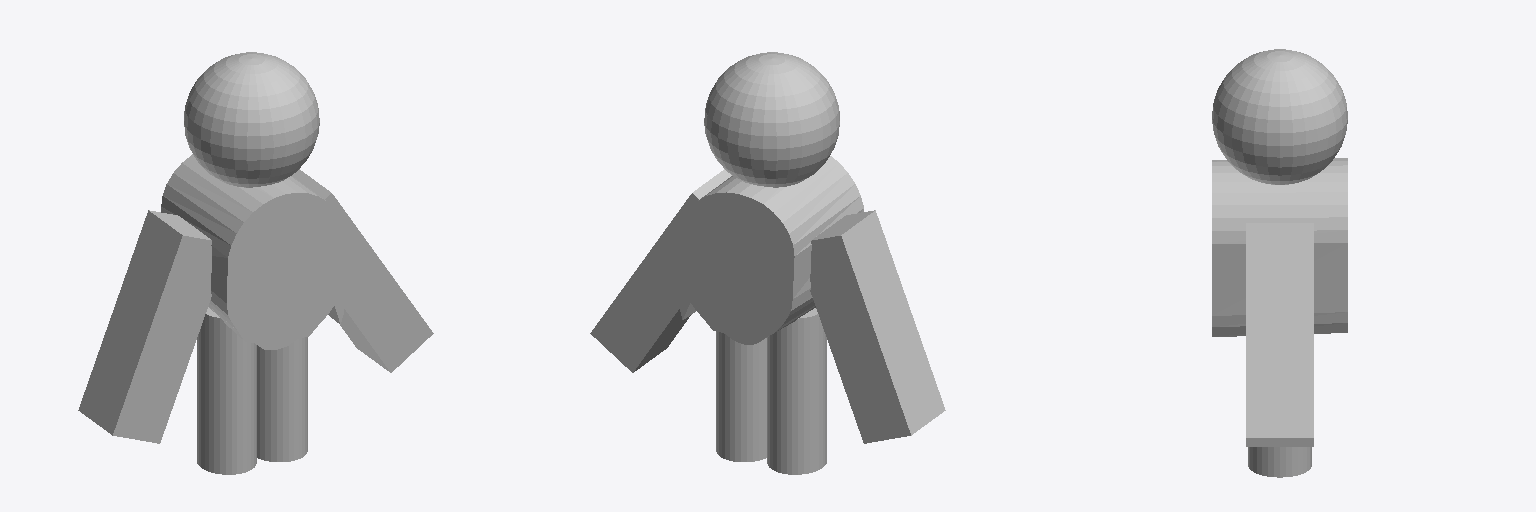
File: Figurine16.obj
3 renders of one model, left to right at view 1: azimuth 30°, elevation 25°; view 2: azimuth 150°, elevation 25°; view 3: azimuth 270°, elevation 25°, orthographic.
Visible parts, largest first — view 1: Cylinder; view 2: Cylinder; view 3: Cylinder.
Part boxes in pixels (bbox=[...]): Cylinder: bbox=[78, 52, 433, 474]; Cylinder: bbox=[590, 52, 945, 474]; Cylinder: bbox=[1212, 49, 1347, 477].
Size of the model in its own units: 5.44 by 6.42 by 2.